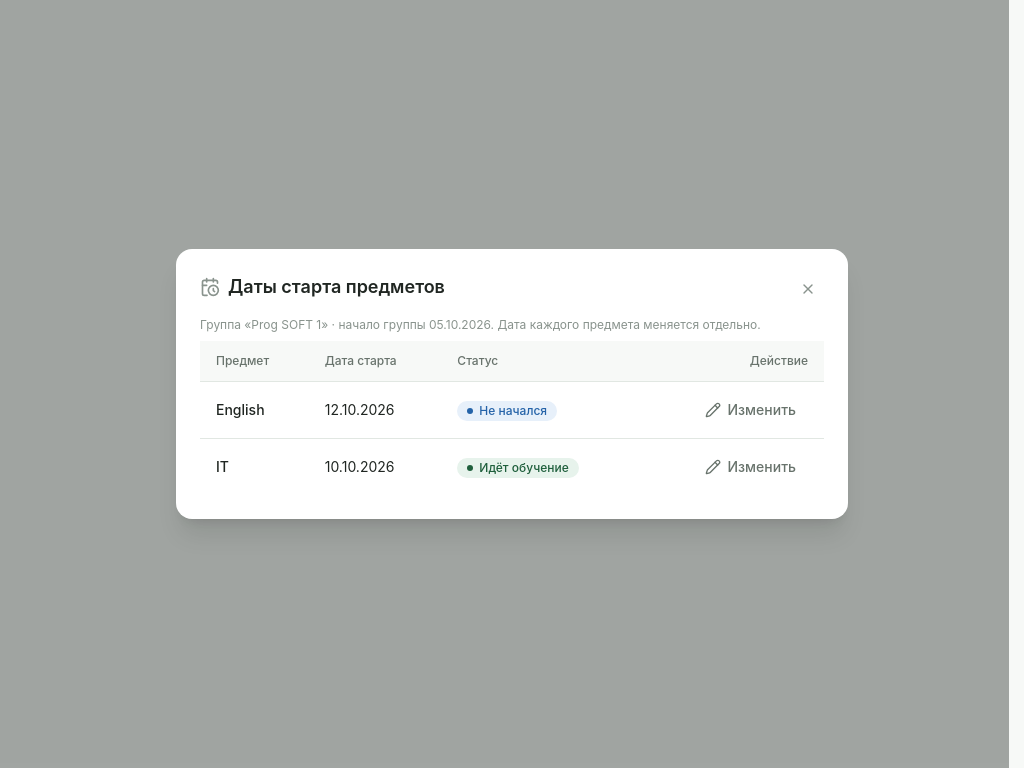
Test case: SubjectStartDatesModal › saves the date of one subject only and reports moved lessons
This screenshot has width=1024, height=768.
Step 1. Click the button with aria-label "Изменить дату старта: English" → [751, 410], box x1=694 y1=394 x2=808 y2=426
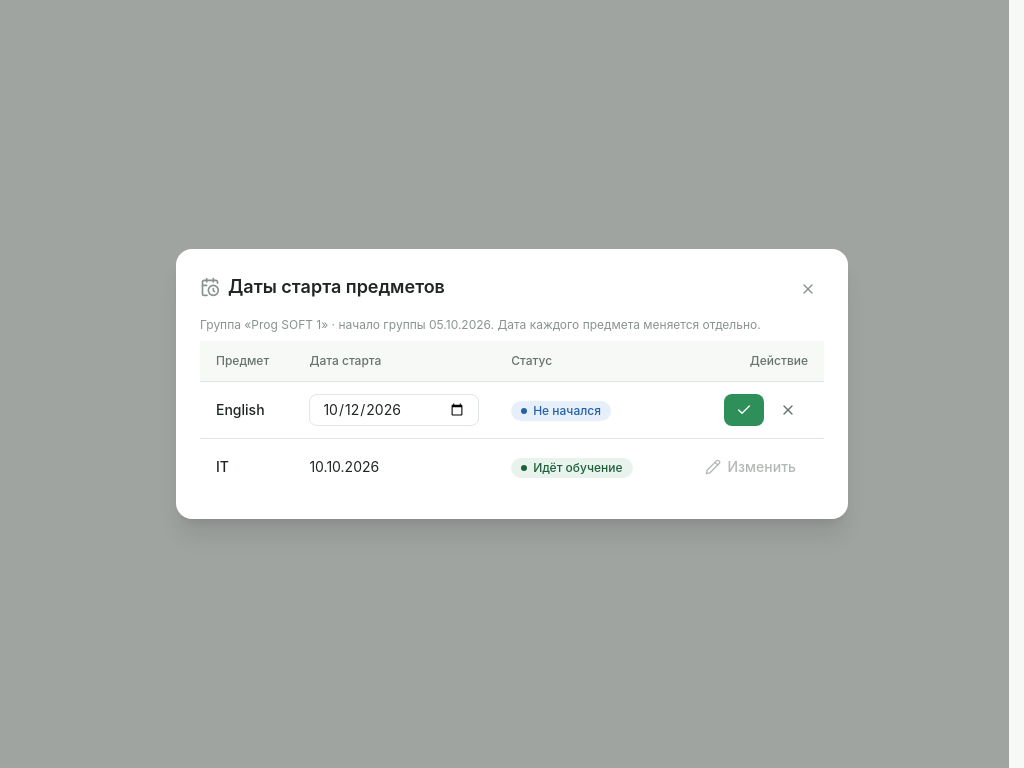
expect the button with aria-label "Изменить дату старта: IT" is disabled: met, box x1=694 y1=451 x2=808 y2=483
Step 2. Type "2026-10-19" into the date field named "Дата старта: English" → [394, 410], box x1=309 y1=394 x2=479 y2=426
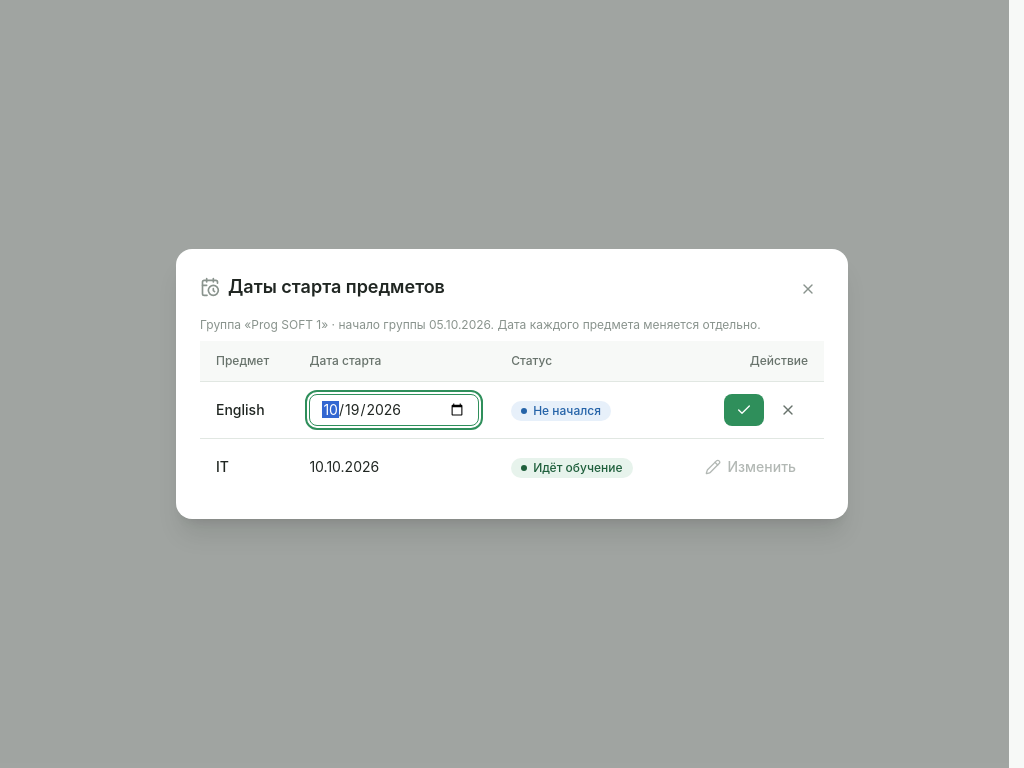
Step 3. Click the button named "Сохранить" → [744, 410], box x1=724 y1=394 x2=764 y2=426
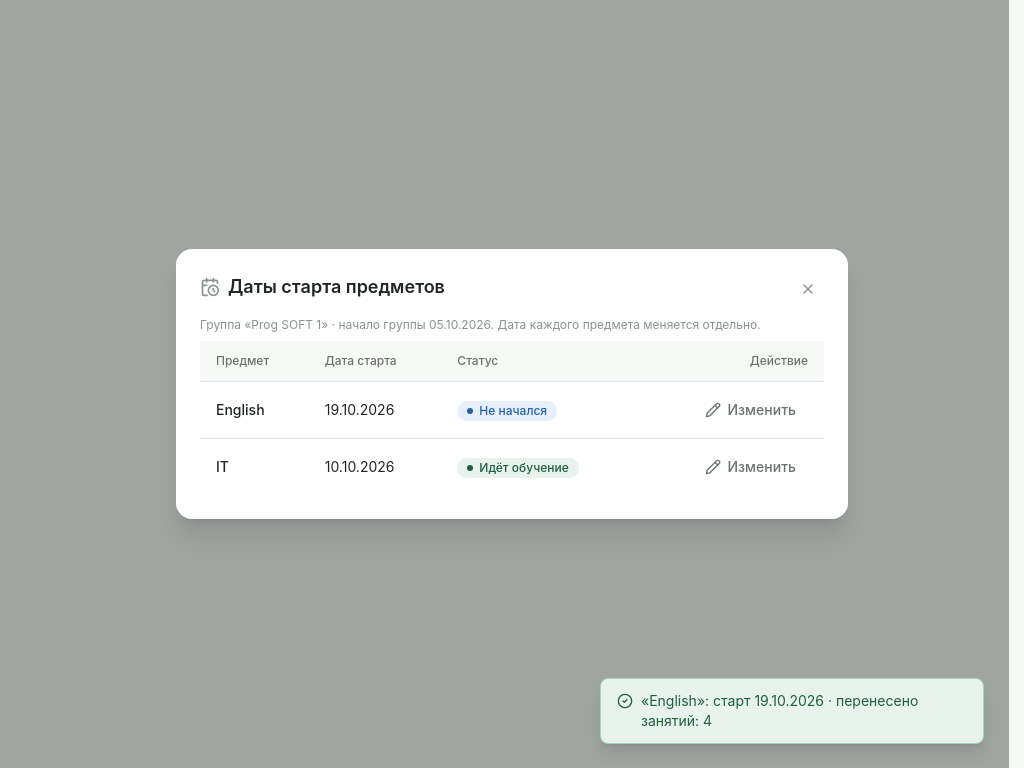
expect the text "«English»: старт 19.10.2026 · перенесено занятий: 4" is shown: met, box x1=641 y1=691 x2=967 y2=731
expect the text "19.10.2026" is shown: met, box x1=325 y1=401 x2=394 y2=418
